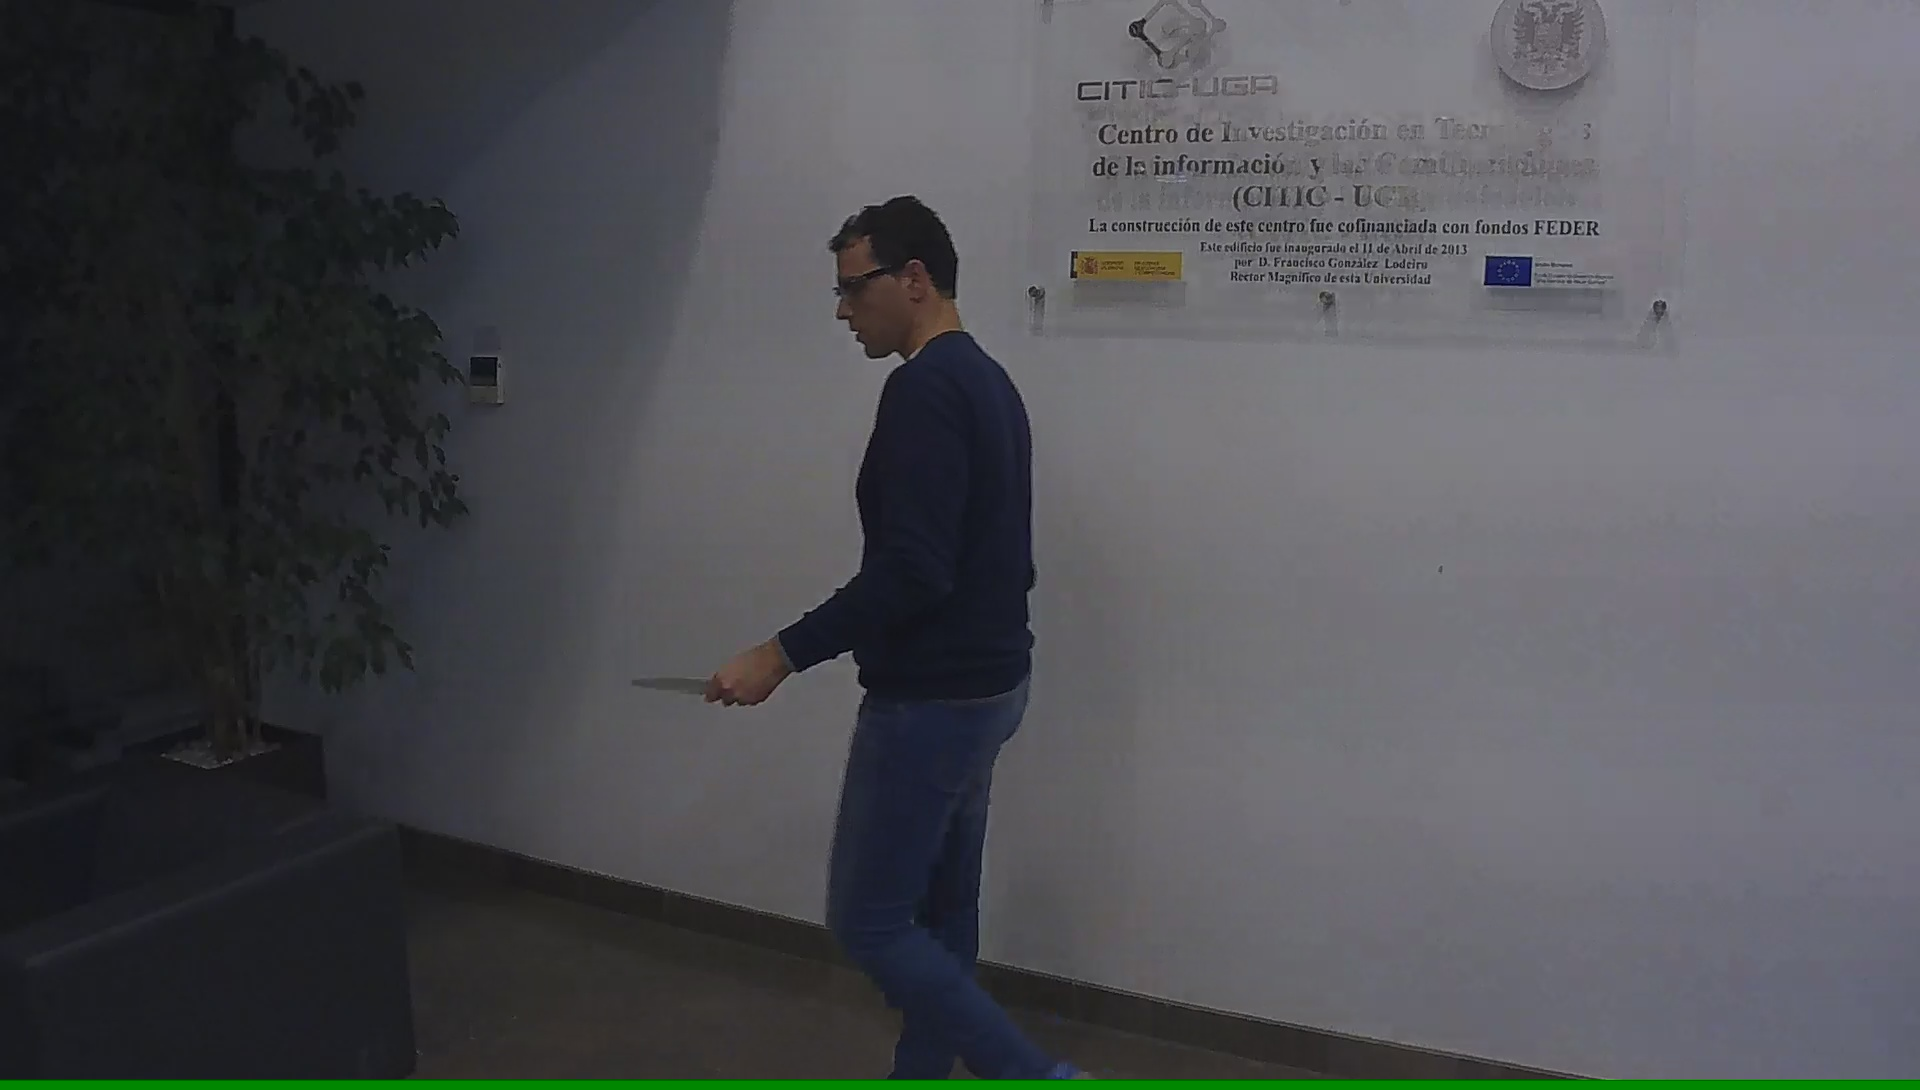knife: (622, 651, 767, 714)
